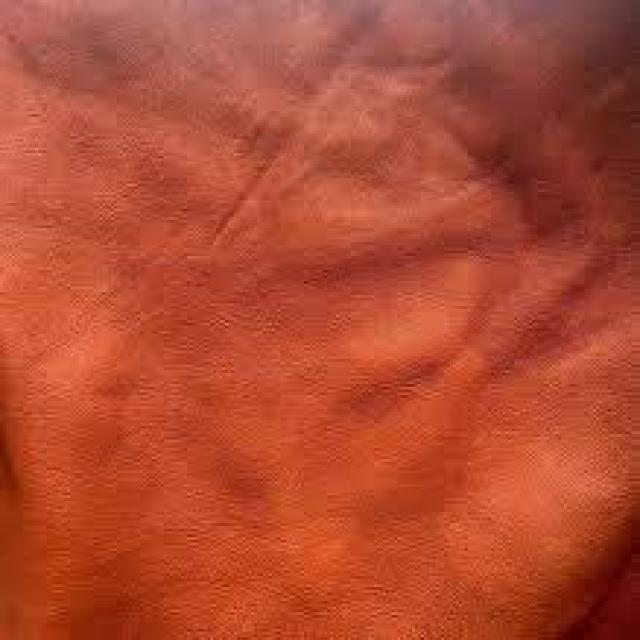Crease: (474, 430, 626, 626), (27, 377, 154, 590)
